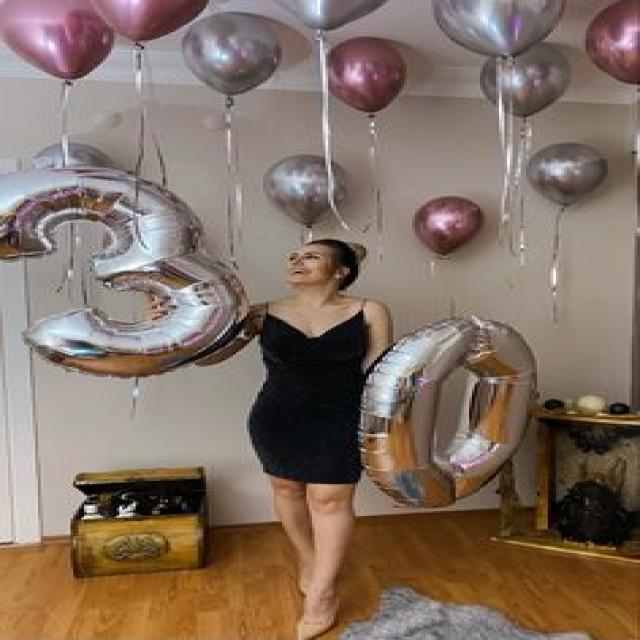red: (0, 3, 118, 82), (320, 34, 412, 113), (414, 191, 487, 266), (586, 0, 640, 94)
